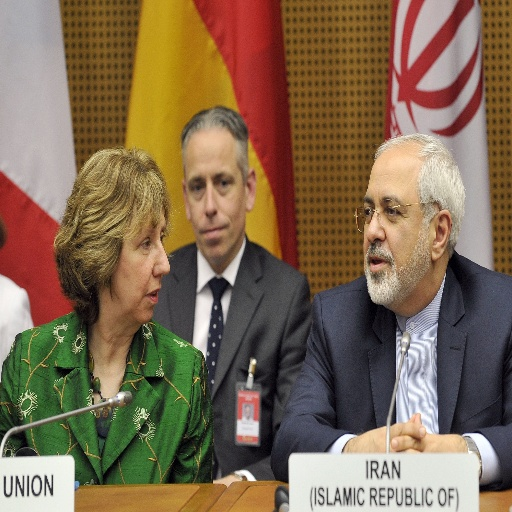hand: (344, 412, 425, 454), (389, 411, 467, 452), (209, 474, 251, 488)
